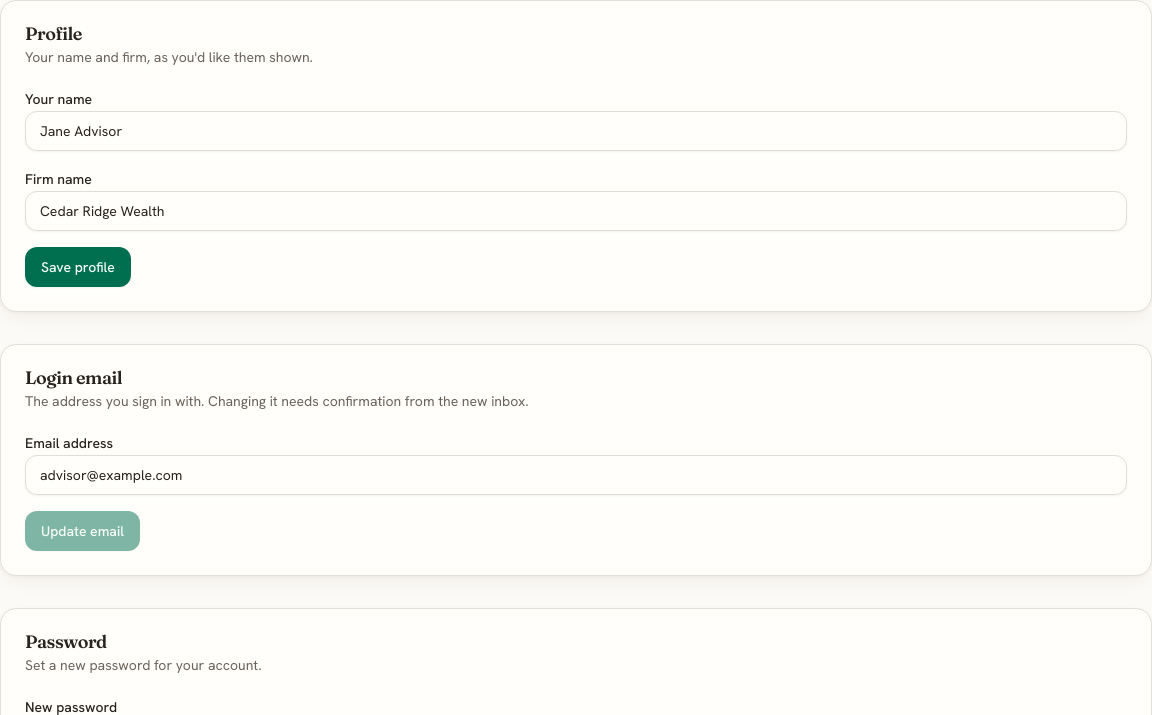
Scenario: <SettingsForm /> › tells the advisor to confirm from the new inbox after an email change
This screenshot has width=1152, height=715.
Replace the text in the field labelled "Email address" with "new@example.com" at {"x": 576, "y": 475}, box [25,455,1127,495]
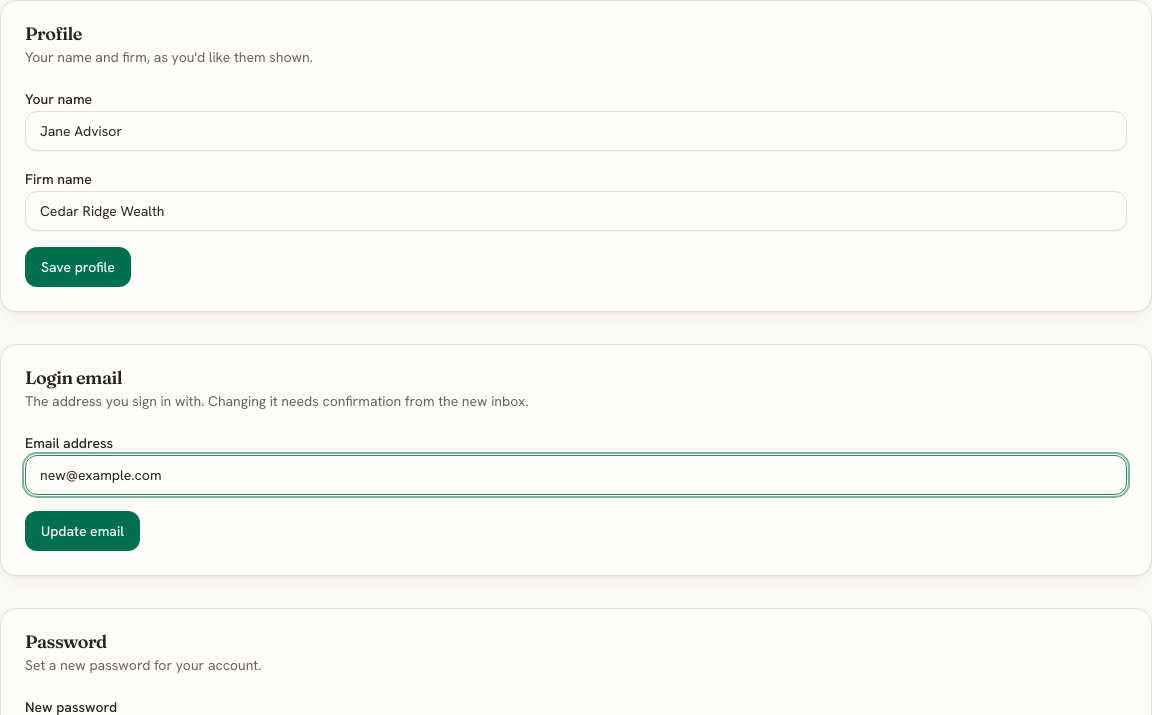
Click the button "Update email".
click(82, 531)  # box [25,511,140,551]
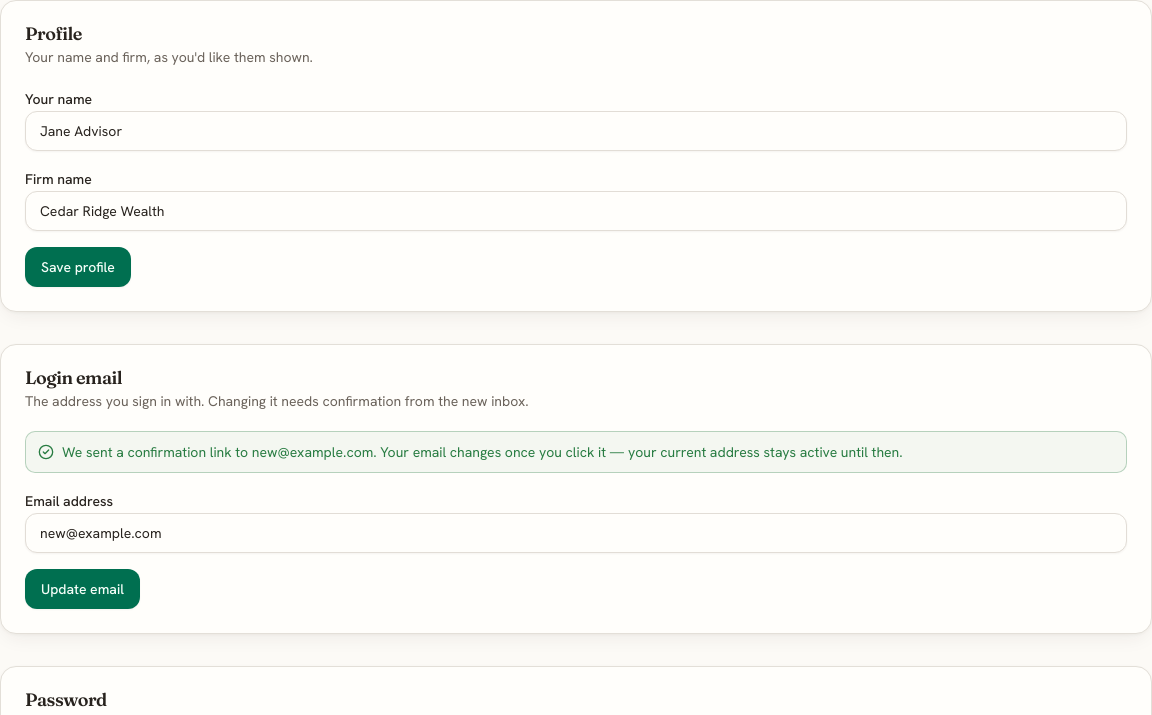
Check: the text "sent a confirmation link to new@example.com" is shown, box [62,443,903,461]
